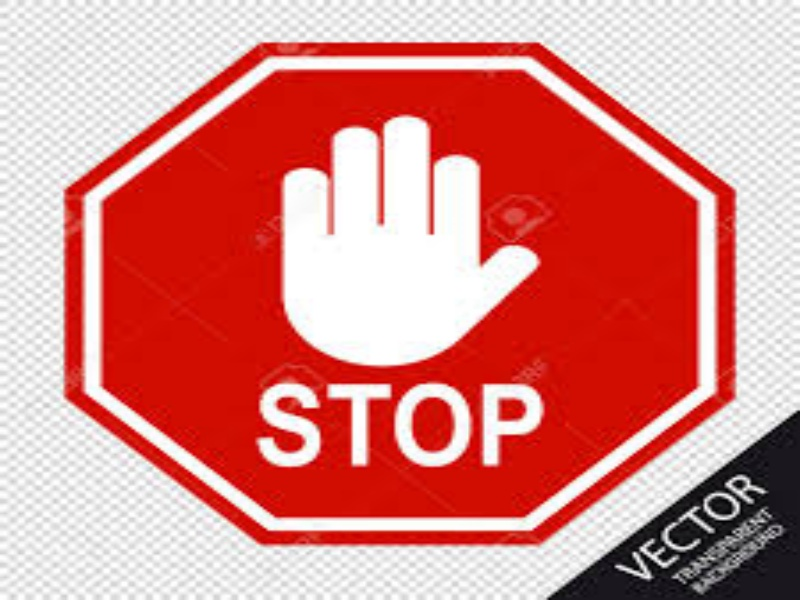Stop_Sign: (70, 44, 740, 536)
